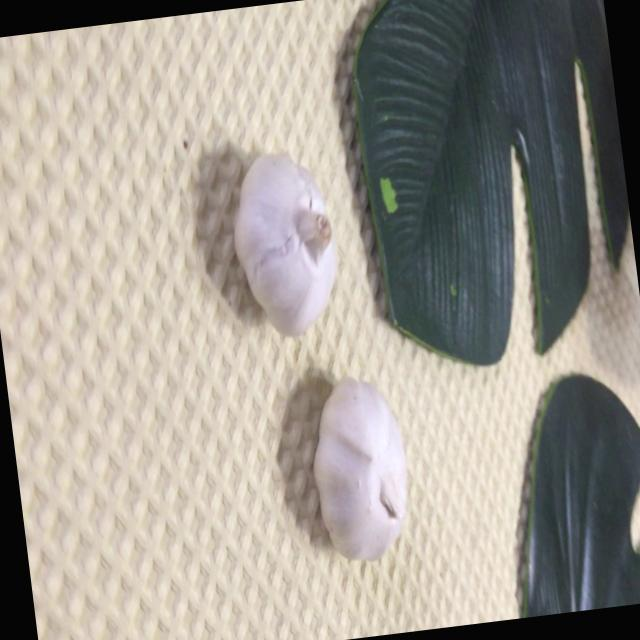garlic: (222, 142, 352, 352), (298, 369, 421, 574)
